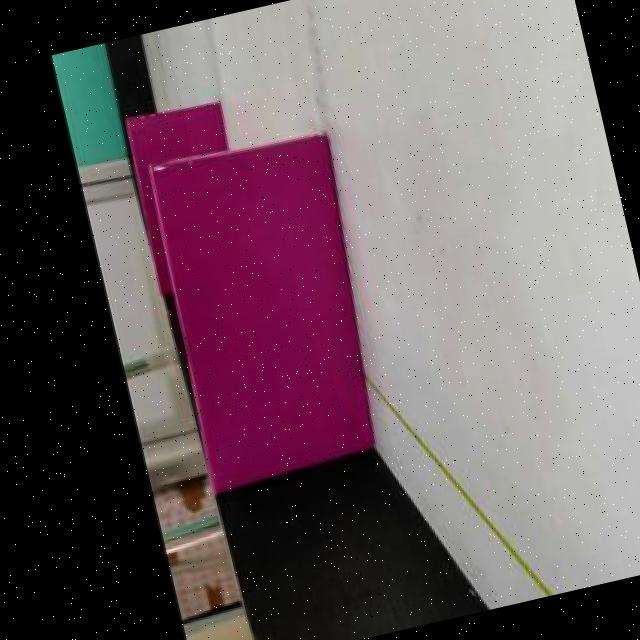xparking: (146, 128, 392, 472), (125, 100, 226, 159)
